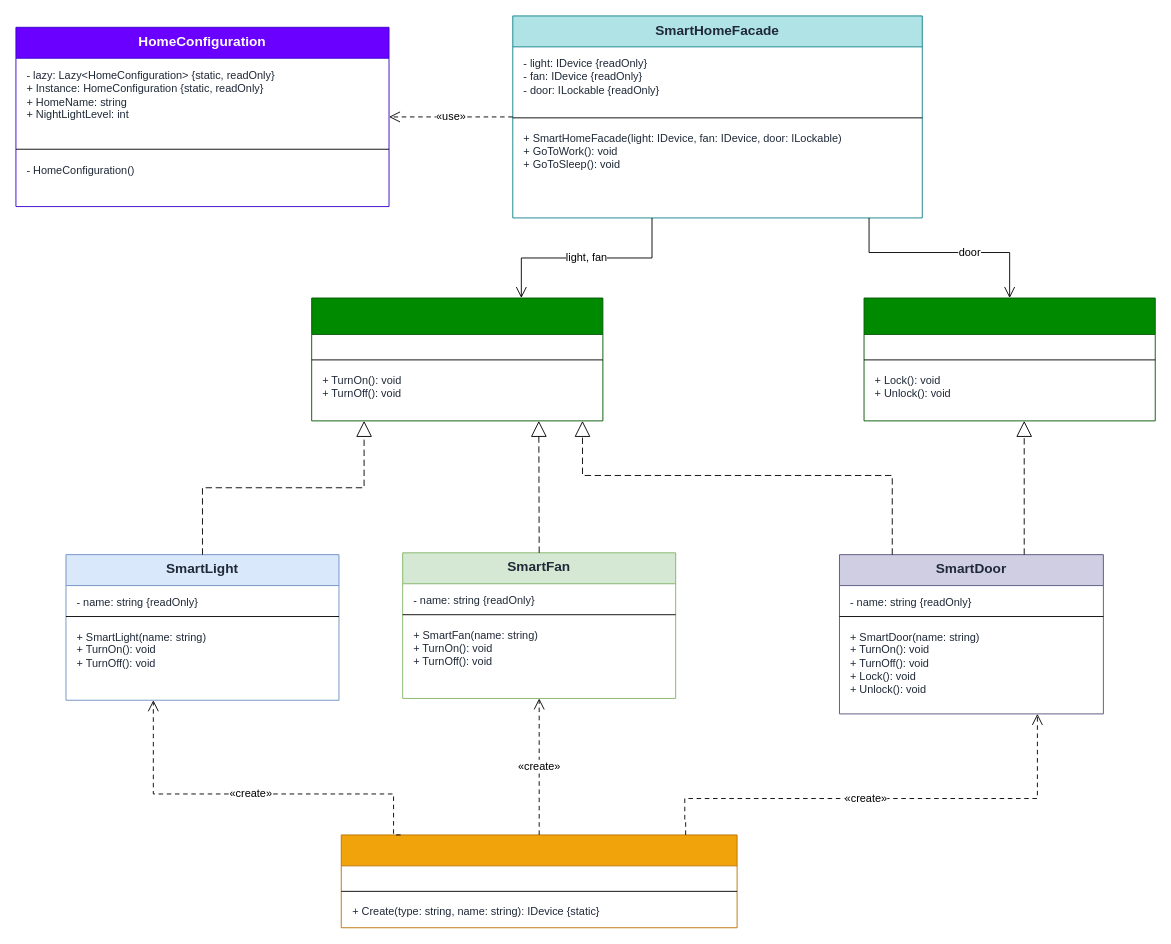
Image size: 1171x944. Some labels were removed from this diagram. Here are the shapes that lost their labels. From the top down, the box of each, then its label:
(311, 297, 603, 421): <<interface>> IDevice
(863, 297, 1155, 421): <<interface>> ILockable
(340, 834, 737, 928): DeviceFactory
